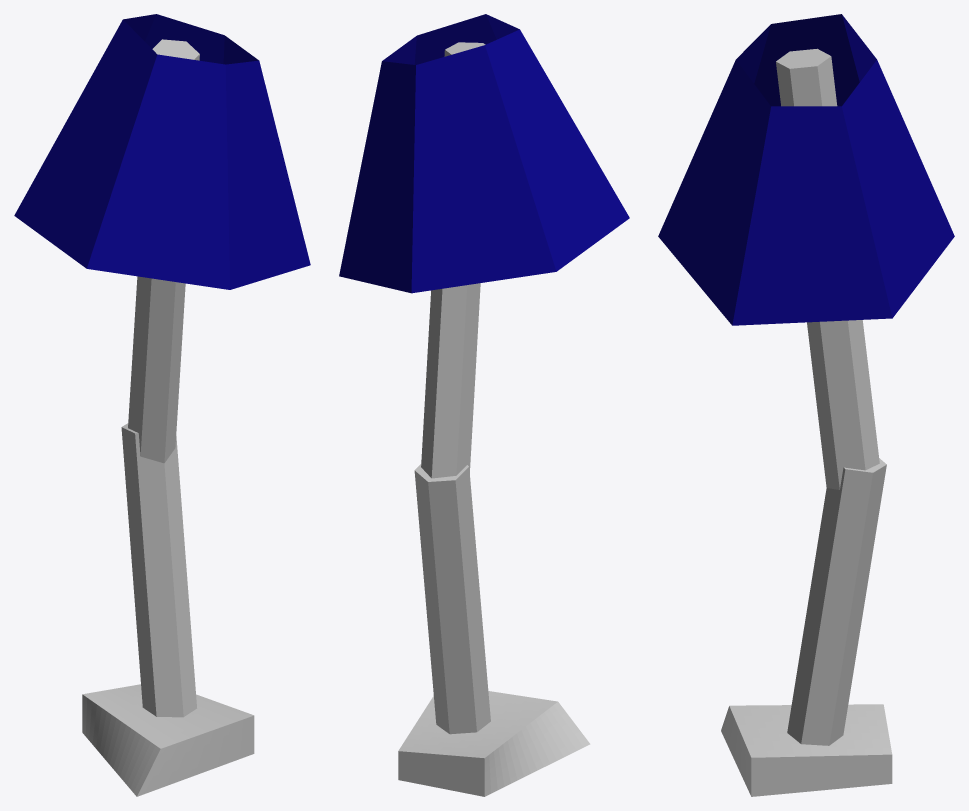
File: Standing_Lamp.fbx
3 views of the same model, side by side, from view 1: azimuth 30°, elevation 25°; view 2: azimuth 150°, elevation 25°; view 3: azimuth 270°, elevation 25° (orthographic). The views are drawn at different scales.
Parts seen in each view (by area): view 1: Cone, Cylinder.001, Cube, Cylinder; view 2: Cone, Cylinder.001, Cube, Cylinder; view 3: Cone, Cylinder.001, Cylinder, Cube.
Part boxes in pixels (left/top/right/bottom): Cone: left=14, top=14, right=310, bottom=289; Cylinder.001: left=121, top=423, right=196, bottom=717; Cube: left=82, top=684, right=254, bottom=796; Cylinder: left=128, top=39, right=199, bottom=463; Cone: left=339, top=14, right=629, bottom=293; Cylinder.001: left=414, top=464, right=490, bottom=734; Cube: left=398, top=691, right=590, bottom=796; Cylinder: left=421, top=42, right=485, bottom=478; Cone: left=658, top=14, right=954, bottom=325; Cylinder.001: left=787, top=458, right=886, bottom=745; Cylinder: left=776, top=48, right=879, bottom=489; Cube: left=721, top=704, right=892, bottom=796.
Bounding box in the file's own units: 333 × 1028 × 374.
